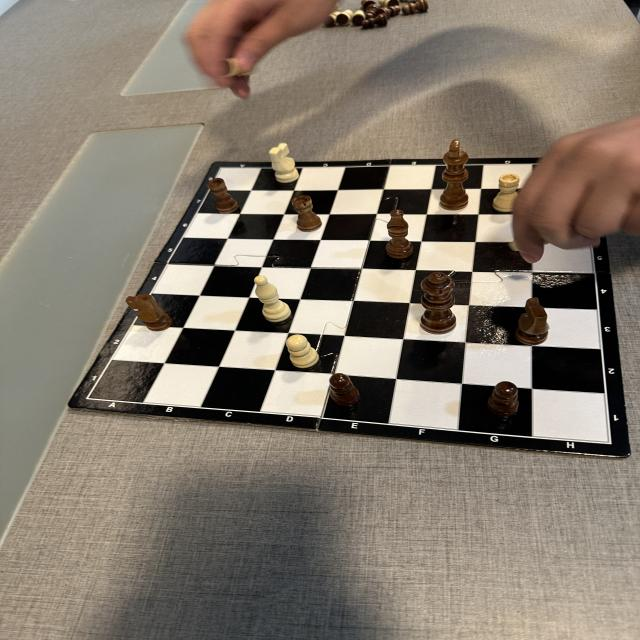Black-Bishop: (385, 209, 414, 259)
Black-King: (438, 139, 469, 211)
Black-Knight: (125, 294, 173, 332), (514, 297, 550, 345)
Black-Pawn: (487, 381, 519, 417), (328, 373, 361, 407)
Black-Queen: (420, 272, 457, 334)
Black-Rook: (206, 177, 240, 214), (292, 195, 322, 233)
White-Bishop: (254, 275, 292, 323)
White-Knight: (268, 142, 300, 184)
White-Pawn: (286, 334, 320, 369)
White-Rook: (492, 174, 519, 212)
